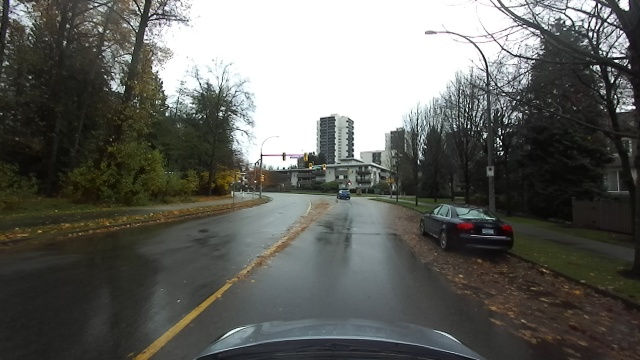car: (417, 202, 517, 256), (336, 187, 352, 201)
